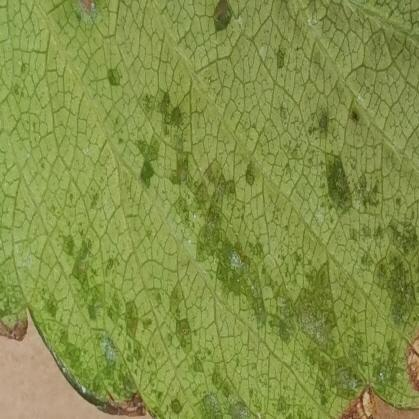Angular Leafspot: (0, 0, 418, 418)
